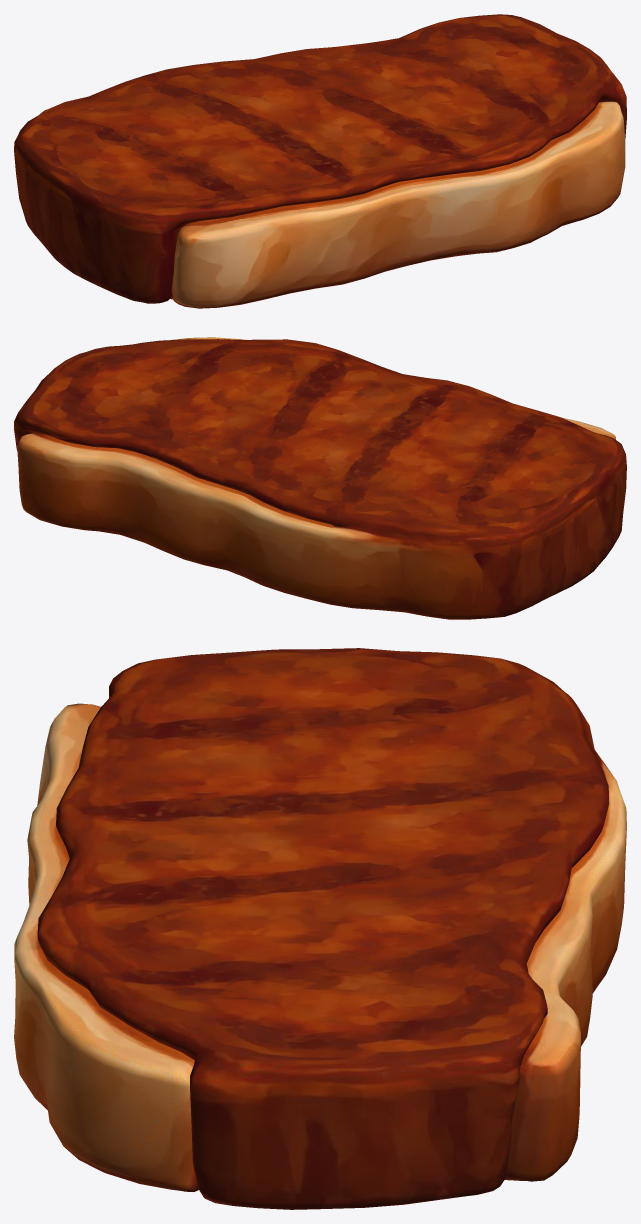
The model's file is cooked-meat.glb.
3 views of the same model, one above another, from view 1: azimuth 30°, elevation 25°; view 2: azimuth 150°, elevation 25°; view 3: azimuth 270°, elevation 25° (orthographic). The views are drawn at different scales.
Visible parts, largest first — view 1: cooked-meat; view 2: cooked-meat; view 3: cooked-meat.
Boxes of the visible parts, left/top/right/bottom form: cooked-meat: left=14, top=14, right=626, bottom=308; cooked-meat: left=14, top=337, right=626, bottom=619; cooked-meat: left=14, top=648, right=626, bottom=1209.
Bounding box in the file's own units: 0.2 × 0.0333 × 0.1229.
1 material, 1 textured.
